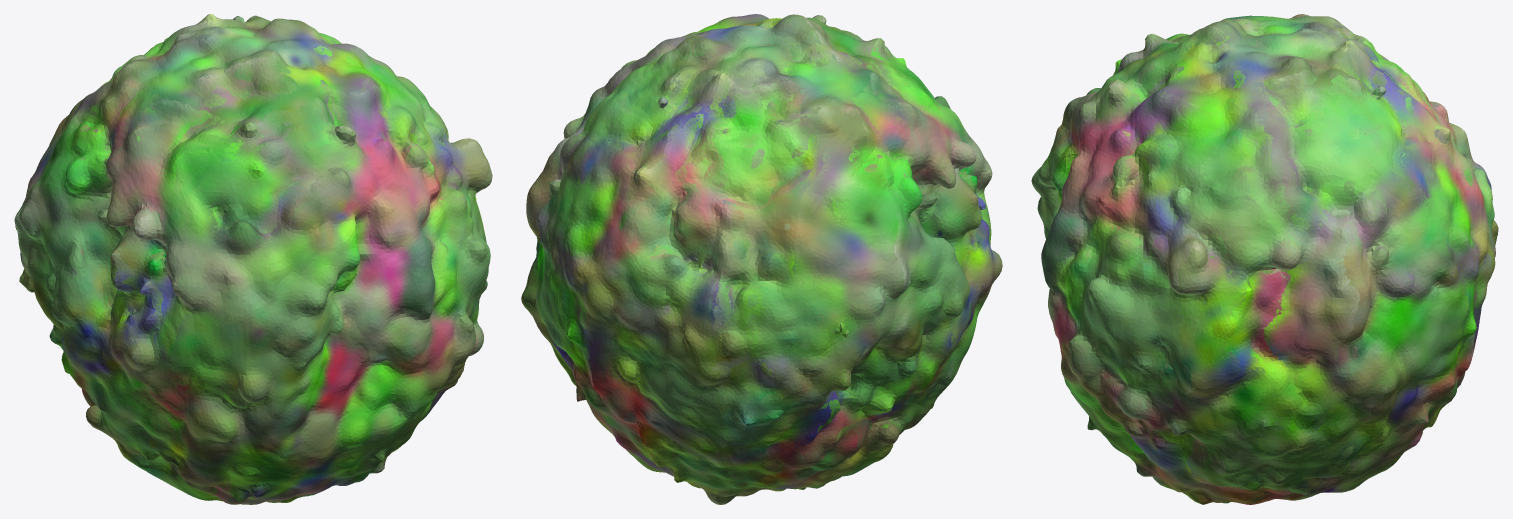
The model's file is soccer_mesh.glb.
The picture shows the model from 3 angles, left to right: view 1: azimuth 30°, elevation 25°; view 2: azimuth 150°, elevation 25°; view 3: azimuth 270°, elevation 25°; orthographic projection.
Size of the model in its own units: 1.59 by 1.72 by 1.58.
Materials: 1 (1 with a texture image).
